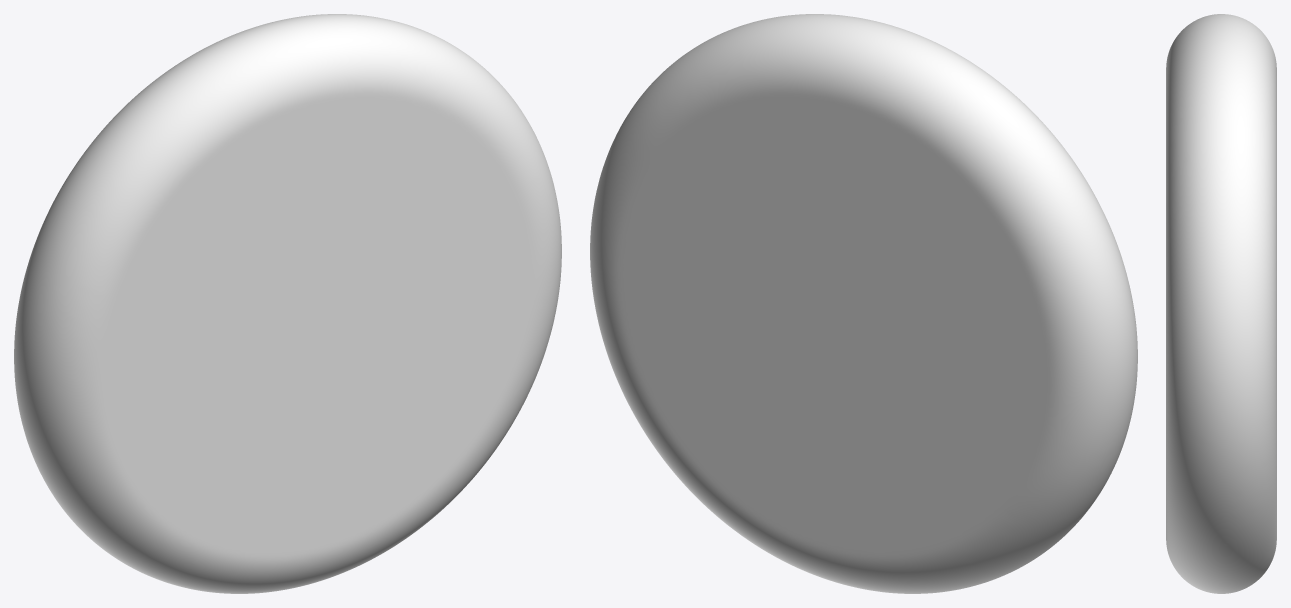
Rendered from callout lens.glb.
3 views of the same model, side by side, from view 1: azimuth 30°, elevation 25°; view 2: azimuth 150°, elevation 25°; view 3: azimuth 270°, elevation 25° (orthographic). The views are drawn at different scales.
Visible parts, largest first — view 1: Announcement Area; view 2: Announcement Area; view 3: Announcement Area.
Boxes of the visible parts, x1,y1,x2,y2 form: Announcement Area: [14, 14, 561, 593]; Announcement Area: [590, 14, 1137, 593]; Announcement Area: [1166, 14, 1276, 593].
Size of the model in its own units: 102 by 102 by 19.4.
1 material, 1 textured.
